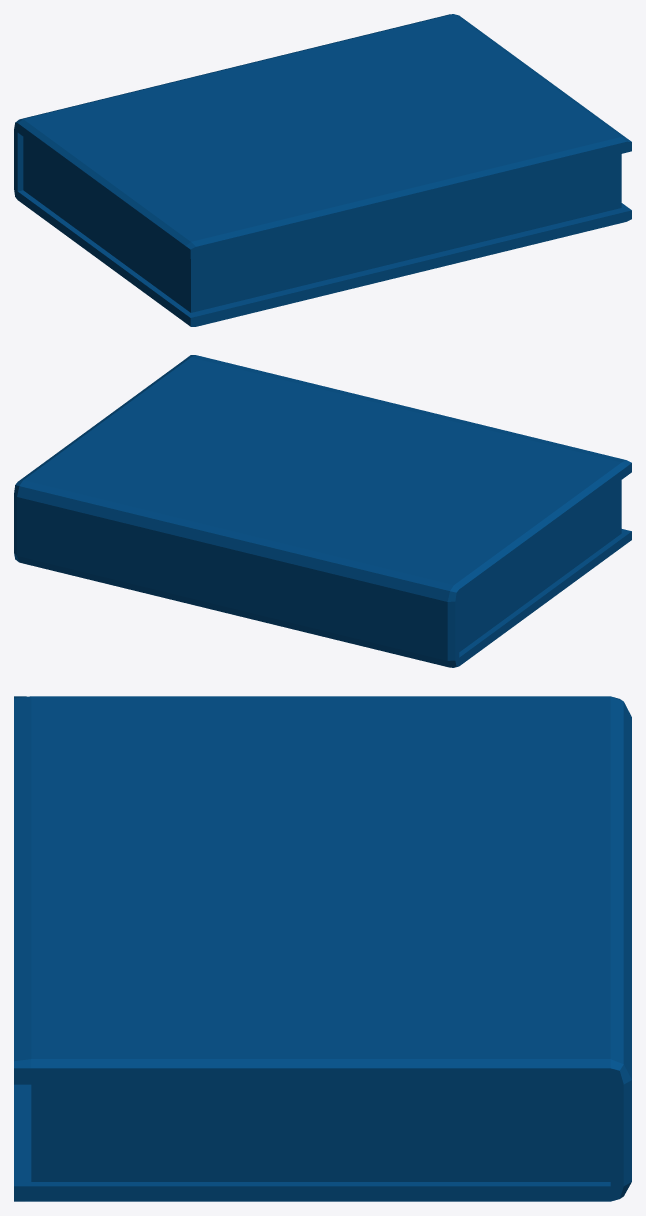
The model's file is Book_02.fbx.
3 renders of one model, top to bottom at view 1: azimuth 30°, elevation 25°; view 2: azimuth 150°, elevation 25°; view 3: azimuth 270°, elevation 25°, orthographic. The views are drawn at different scales.
Visible parts, largest first — view 1: Book_02; view 2: Book_02; view 3: Book_02.
Boxes of the visible parts, x1,y1,x2,y2 form: Book_02: (14, 14, 631, 326); Book_02: (14, 355, 631, 667); Book_02: (14, 696, 631, 1201).
Bounding box in the file's own units: 29.29 × 5.24 × 20.57.
